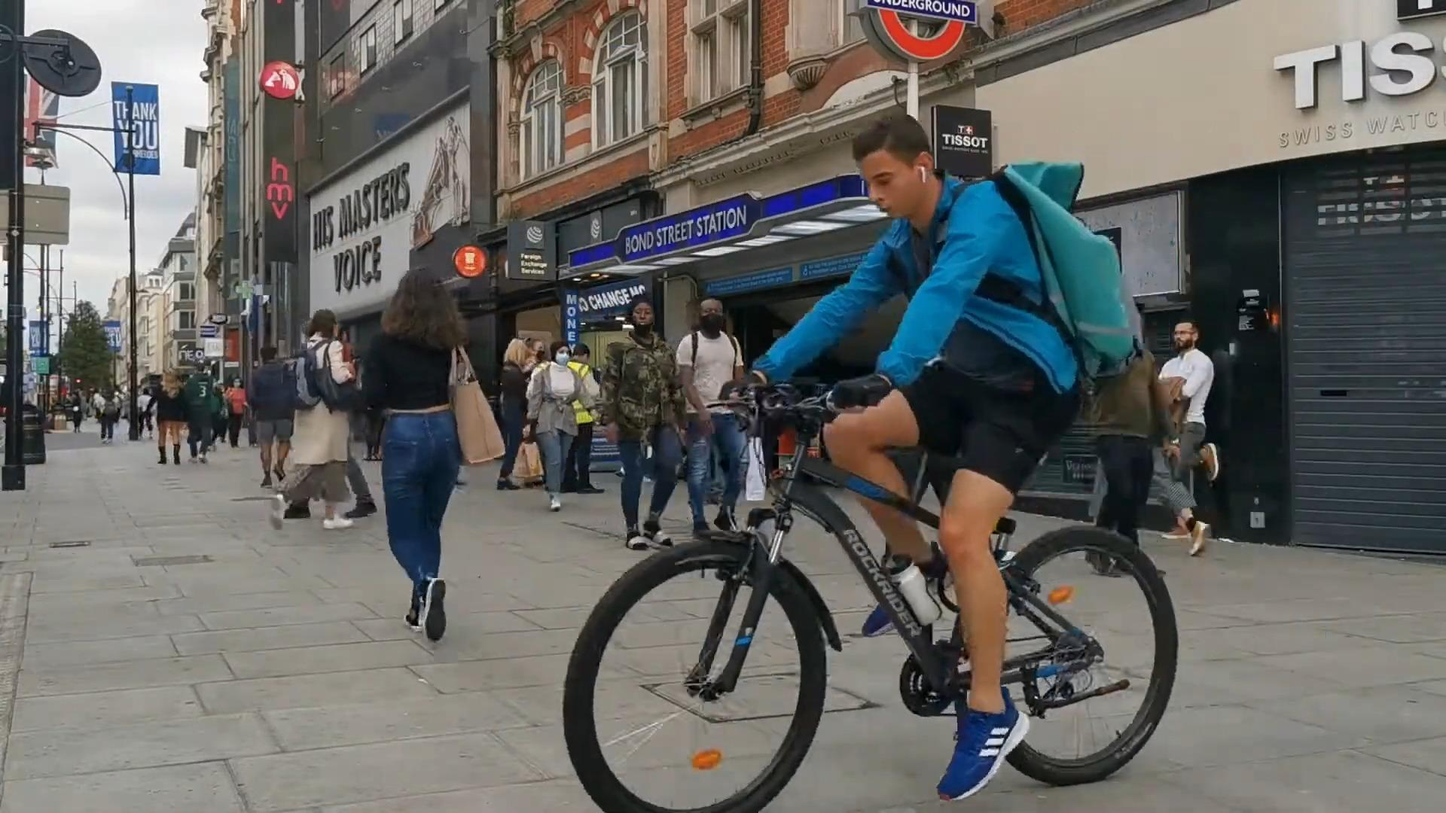no-helmet: (852, 110, 934, 216), (380, 267, 467, 344), (628, 294, 655, 336), (307, 308, 339, 339), (699, 299, 724, 334), (503, 338, 531, 369), (1171, 321, 1199, 351), (549, 340, 572, 366), (524, 336, 546, 362), (572, 343, 591, 363), (260, 344, 277, 364), (163, 368, 178, 388), (230, 375, 244, 389)
